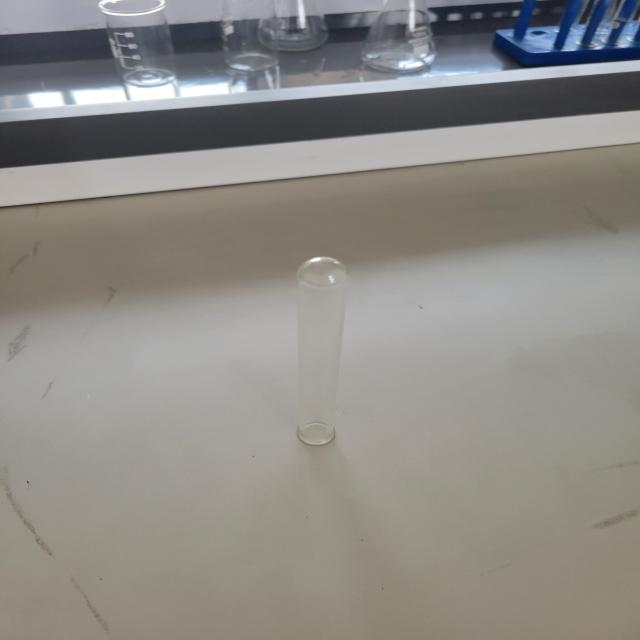Test_Tube: (273, 224, 394, 471)
